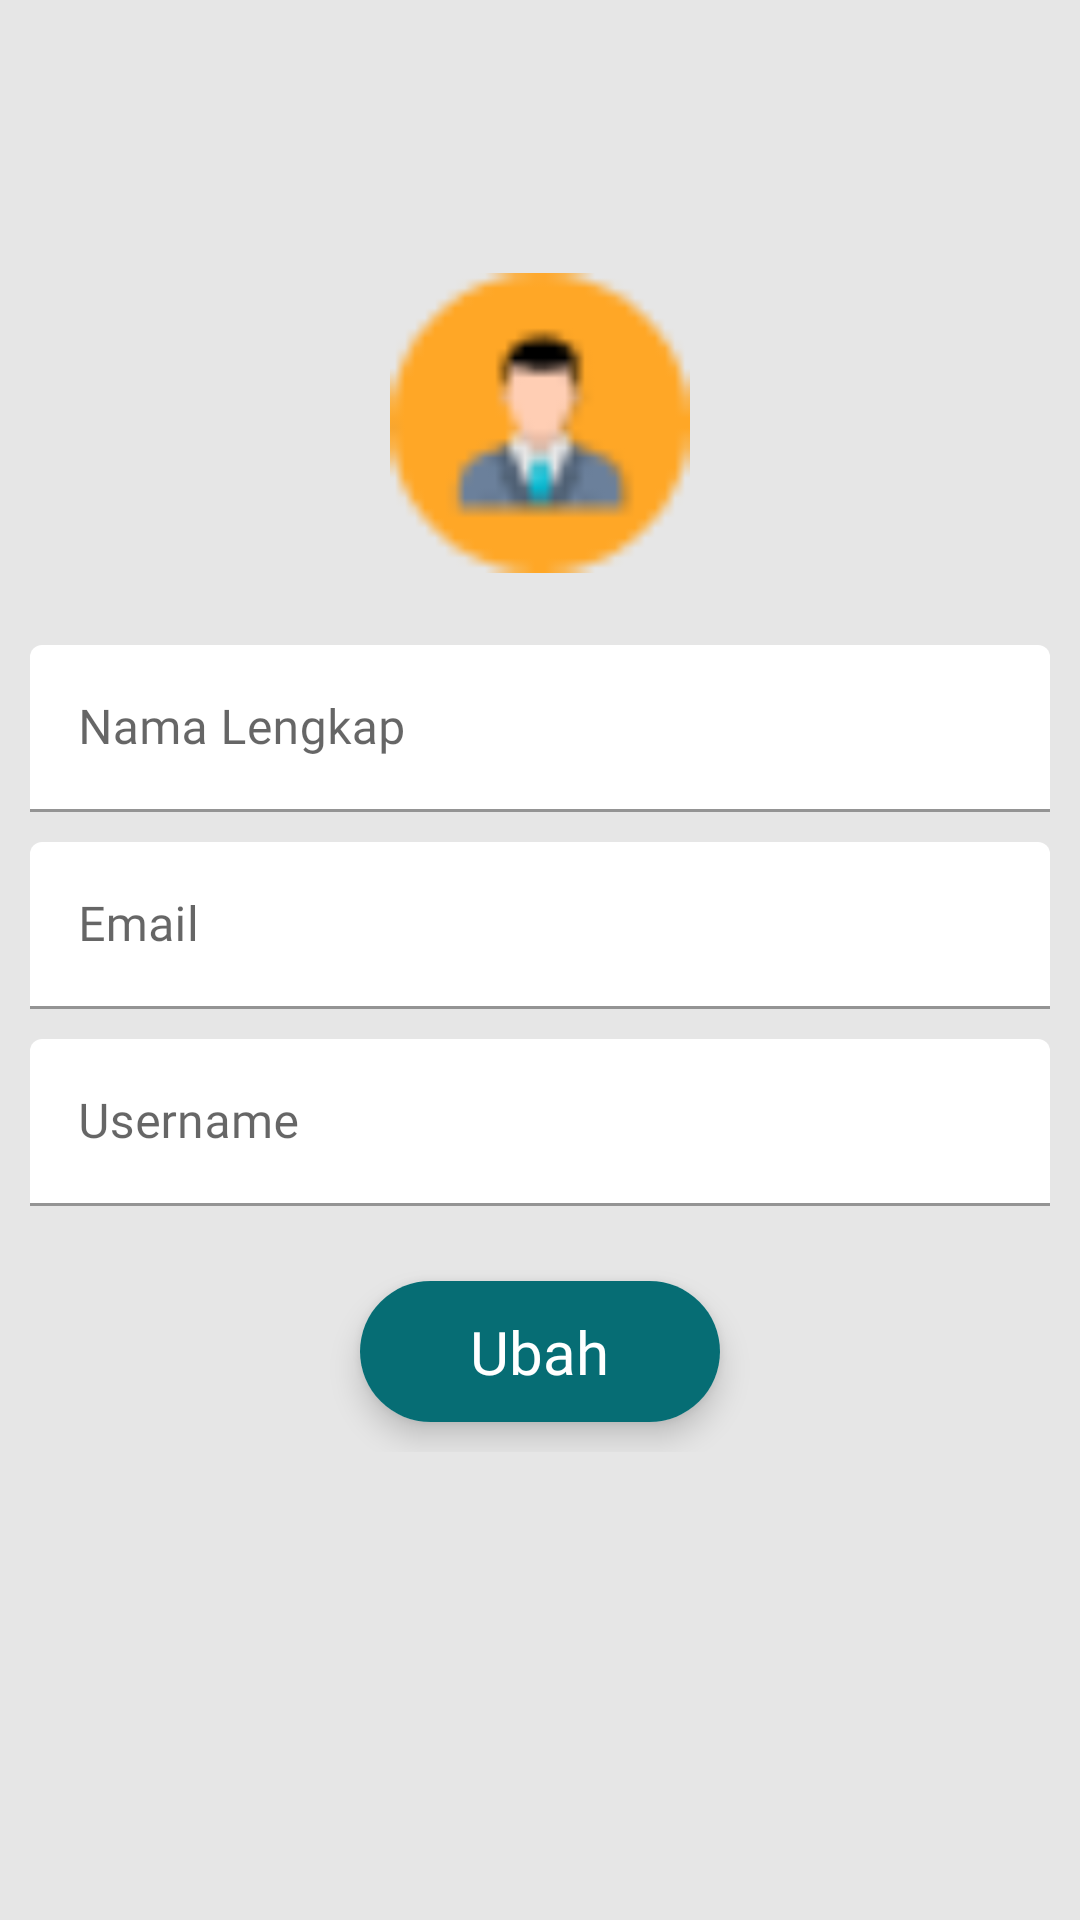

Screen size 1080 x 1920. Icon name, then its center in pixels as point (x, y):
user: point (540, 423)
